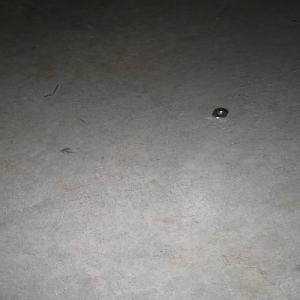Nut: (211, 108, 228, 119)
